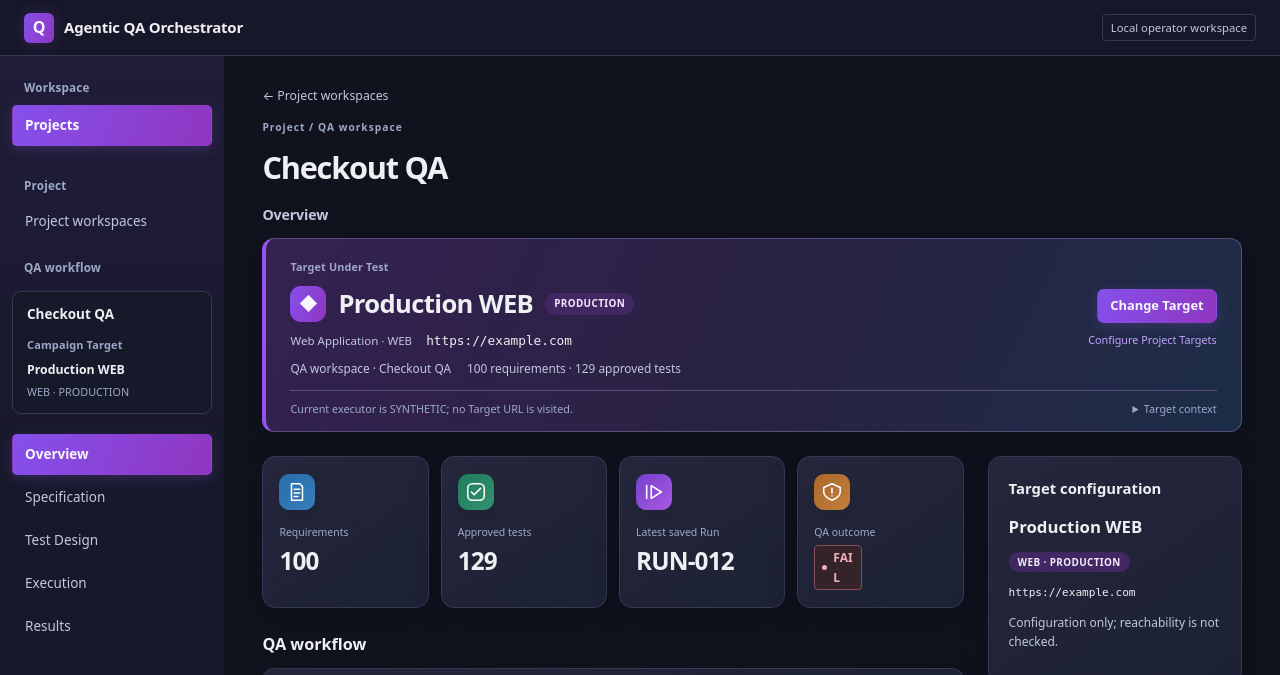
Scenario: keeps the compact Target hero authoritative, inert and explicit
Expected: the text "Production WEB" below "Target Under Test" is shown, [338,286,533,321]
Expected: the text "PRODUCTION" is shown, [545,293,634,314]
Click the heading "Target context" at (1174, 409), box [1132,401,1217,418]
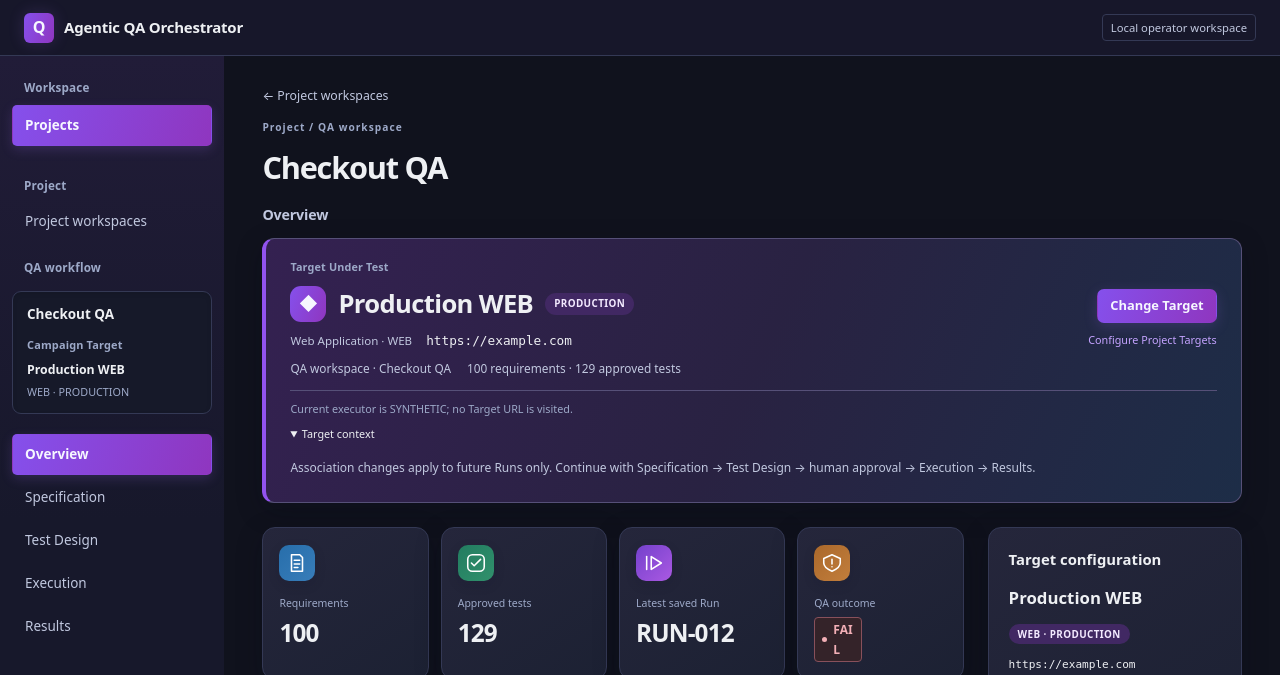
Expected: the text "Association changes apply to future Runs only" is shown, [290,459,1035,476]
